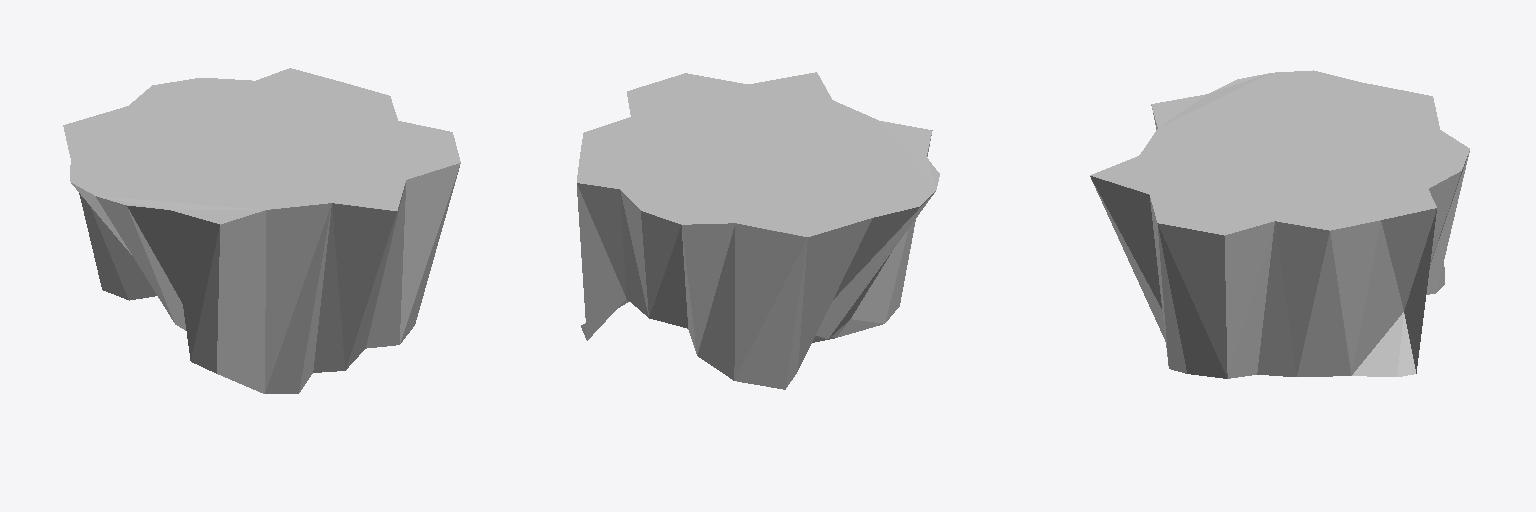
The model's file is ice.obj.
3 views of the same model, side by side, from view 1: azimuth 30°, elevation 25°; view 2: azimuth 150°, elevation 25°; view 3: azimuth 270°, elevation 25° (orthographic).
Visible parts, largest first — view 1: Cube; view 2: Cube; view 3: Cube.
Boxes of the visible parts, x1=… form: Cube: x1=63, y1=68, x2=460, y2=393; Cube: x1=577, y1=72, x2=939, y2=389; Cube: x1=1090, y1=70, x2=1469, y2=378.
Bounding box in the file's own units: 8.52 × 4.96 × 8.31.